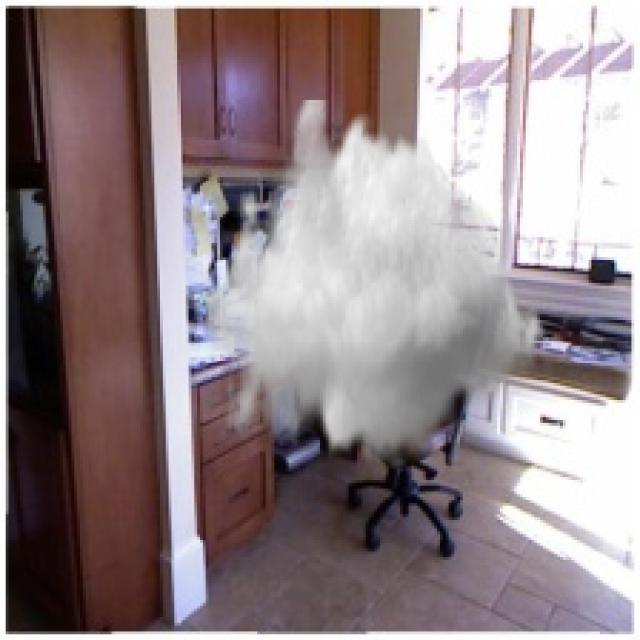smoke: (206, 97, 551, 469)
